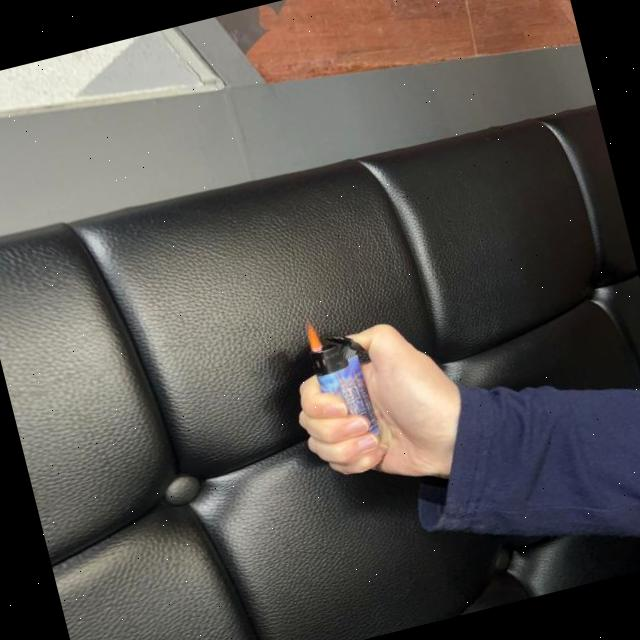fire: (303, 318, 324, 354)
